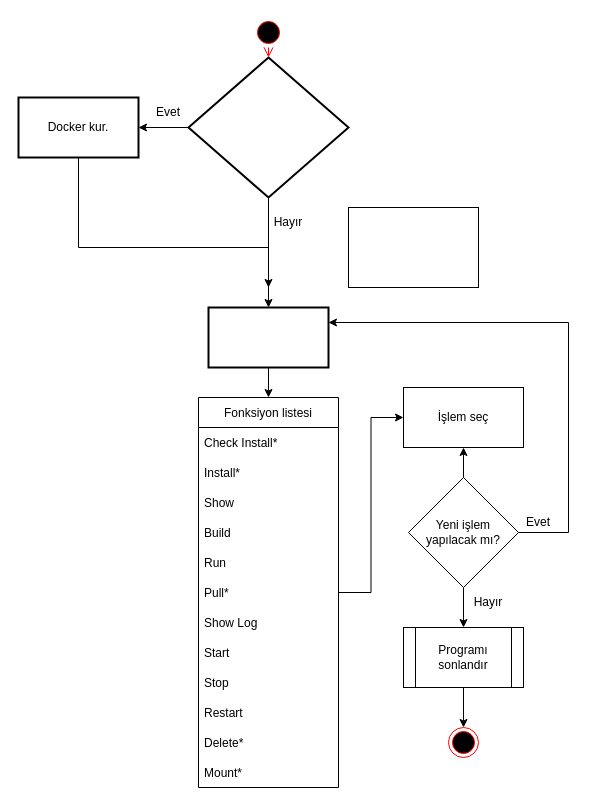
Some shapes in this 594 by 805 pixel diagram are drawn without their labels. The shapes that lost their labels are listed below. From the top down, each one's centre as x and y in pixels, then its label:
At (268,127): "Docker kurmak ister misiniz?*".
At (413,247): "* işareti ile gösterilenlerin faz 2'de yapılması planlanmaktadır.".
At (268,337): "Tüm seçenekleri göster".
